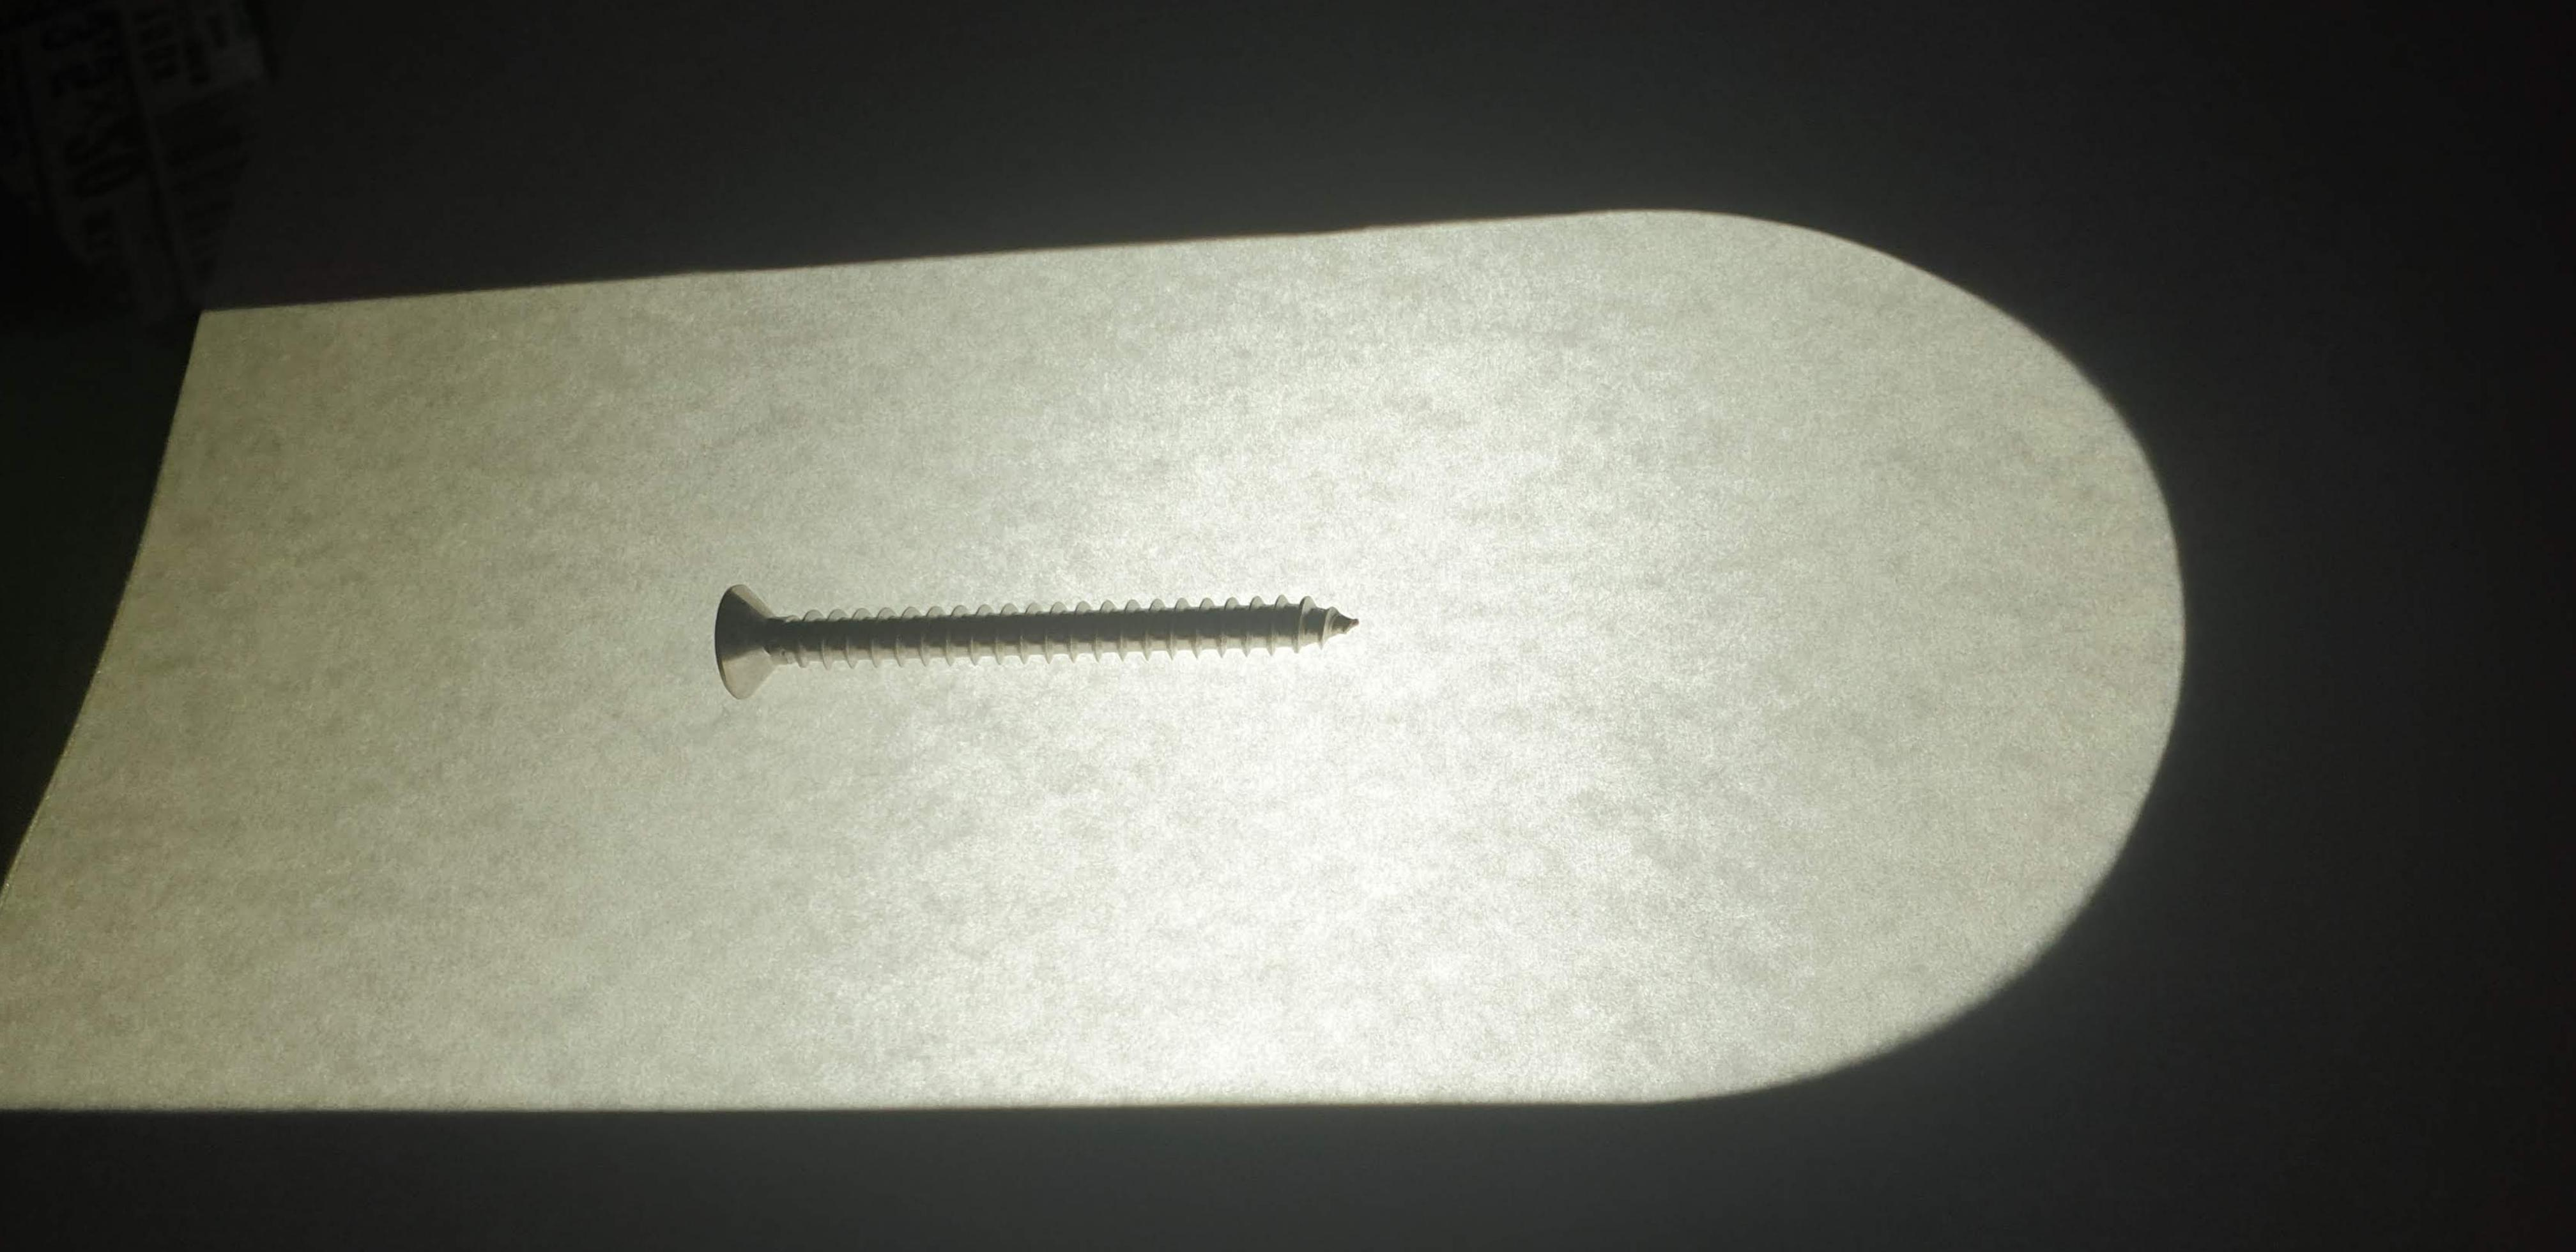S001: (672, 531, 1423, 730)
